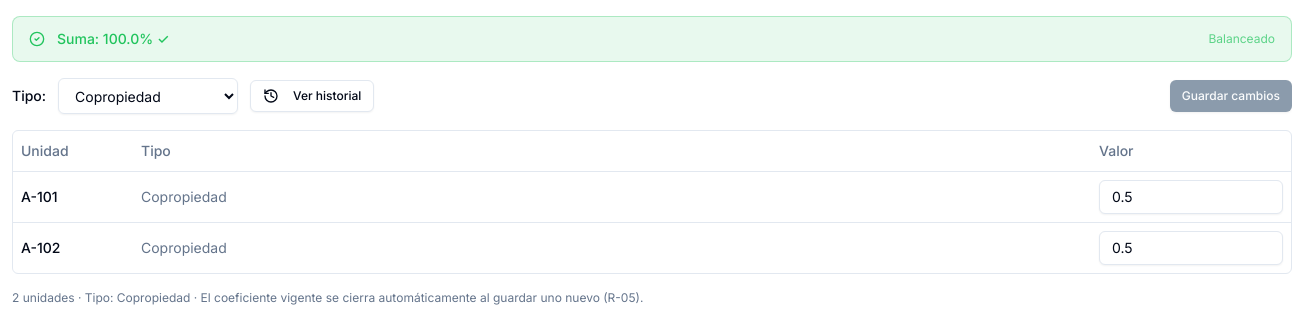
CoeficientesTab (PROPIEDADES-B09) › toggle 'Ver historial' muestra columnas vigente_desde/vigente_hasta
Check: the column heading "vig. desde" is not shown
Check: the column heading "vig. hasta" is not shown
Click the button "Ver historial": (312, 96) [250,80,374,112]
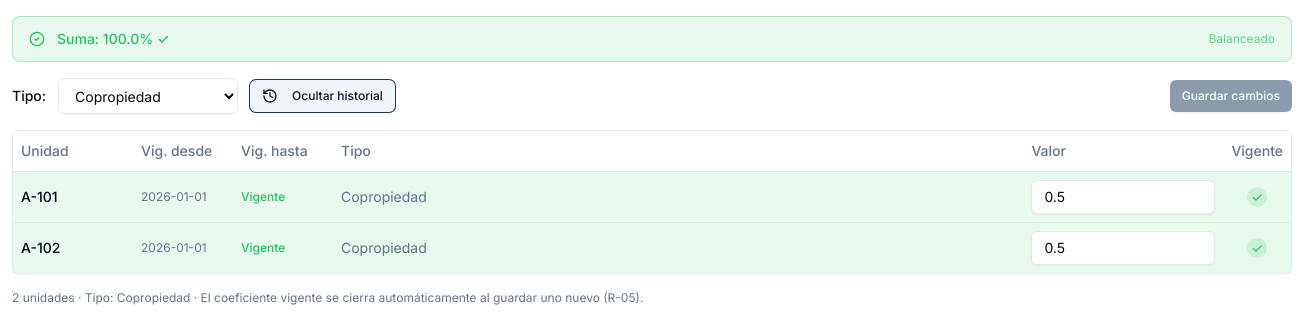
Check: the column heading "Vig. desde" is shown, box [133,131,233,171]
Check: the column heading "Vig. hasta" is shown, box [233,131,333,171]
